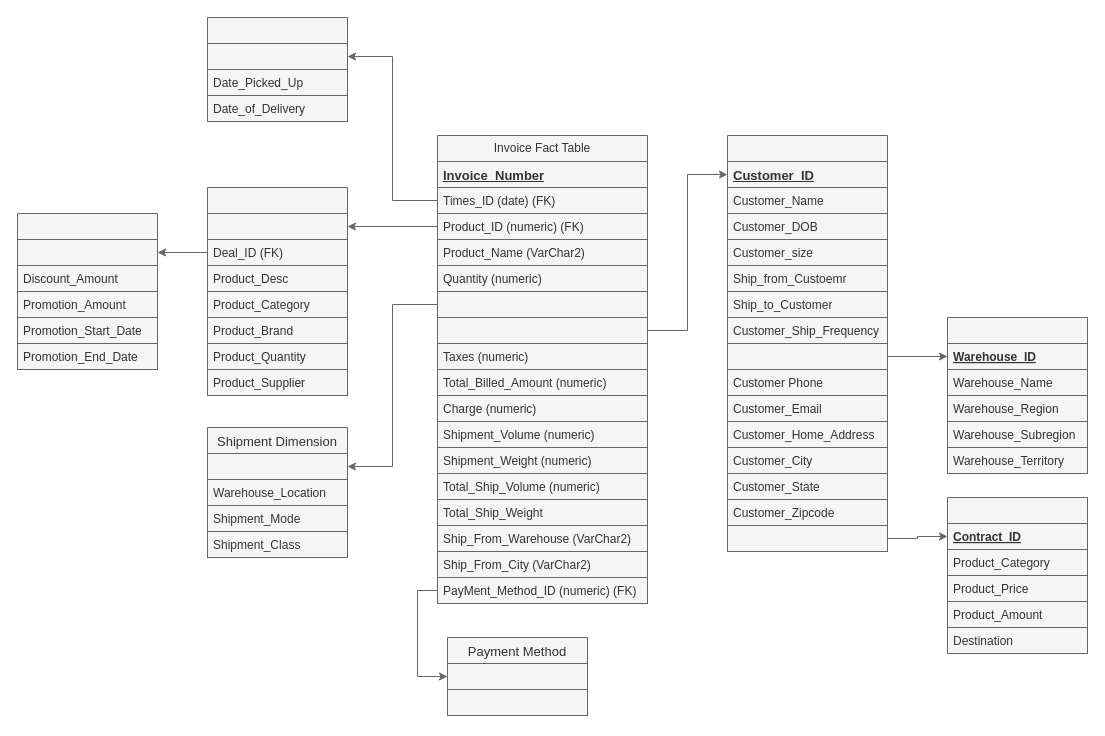
This 1105x736 diagram has some shape labels left out. The box of each missing label's shape, as (x1, y1, x2, y2) in pixels:
Contract Dimension: (946, 496, 1088, 654)
Contract_ID (FK): (726, 524, 888, 552)
Customer Dimension: (726, 134, 888, 552)
Customer_ID (numeric) (FK): (436, 316, 648, 344)
Date Dimension: (206, 16, 348, 122)
Deal_ID: (16, 238, 158, 266)
Payment_Method_ID: (446, 662, 588, 690)
Payment_Type: (446, 688, 588, 716)
Product Dimension: (206, 186, 348, 396)
Product_ID: (206, 212, 348, 240)
Promotion Dimension: (16, 212, 158, 370)
Shipment_ID: (206, 452, 348, 480)
Shipment_ID (numeric) (FK): (436, 290, 648, 318)
Times_ID: (206, 42, 348, 70)
Warehouse Dimension: (946, 316, 1088, 474)
Warehouse_ID (FK): (726, 342, 888, 370)
